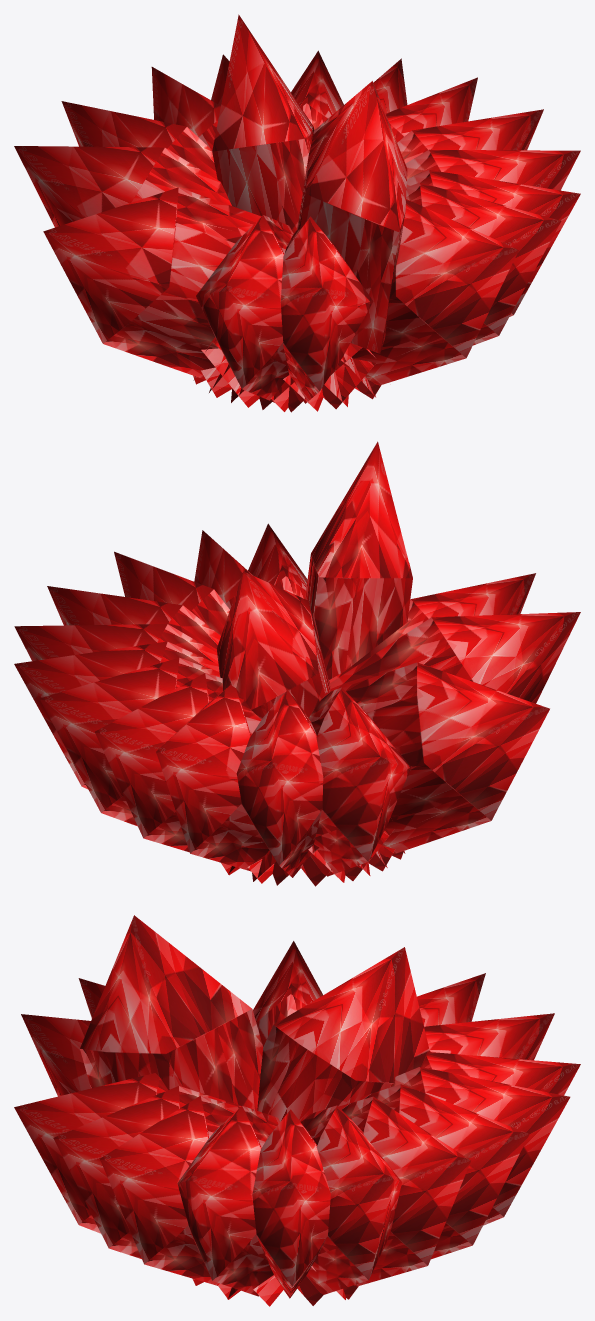
File: Red Crystal.FBX
3 views of the same model, one above another, from view 1: azimuth 30°, elevation 25°; view 2: azimuth 150°, elevation 25°; view 3: azimuth 270°, elevation 25° (orthographic).
Parts seen in each view (by area): view 1: Box016; view 2: Box016; view 3: Box016.
Part boxes in pixels (<box>): Box016: <box>14,14,580,412</box>; Box016: <box>14,441,580,886</box>; Box016: <box>14,915,580,1306</box>.
Bounding box in the file's own units: 126 × 82.09 × 122.
